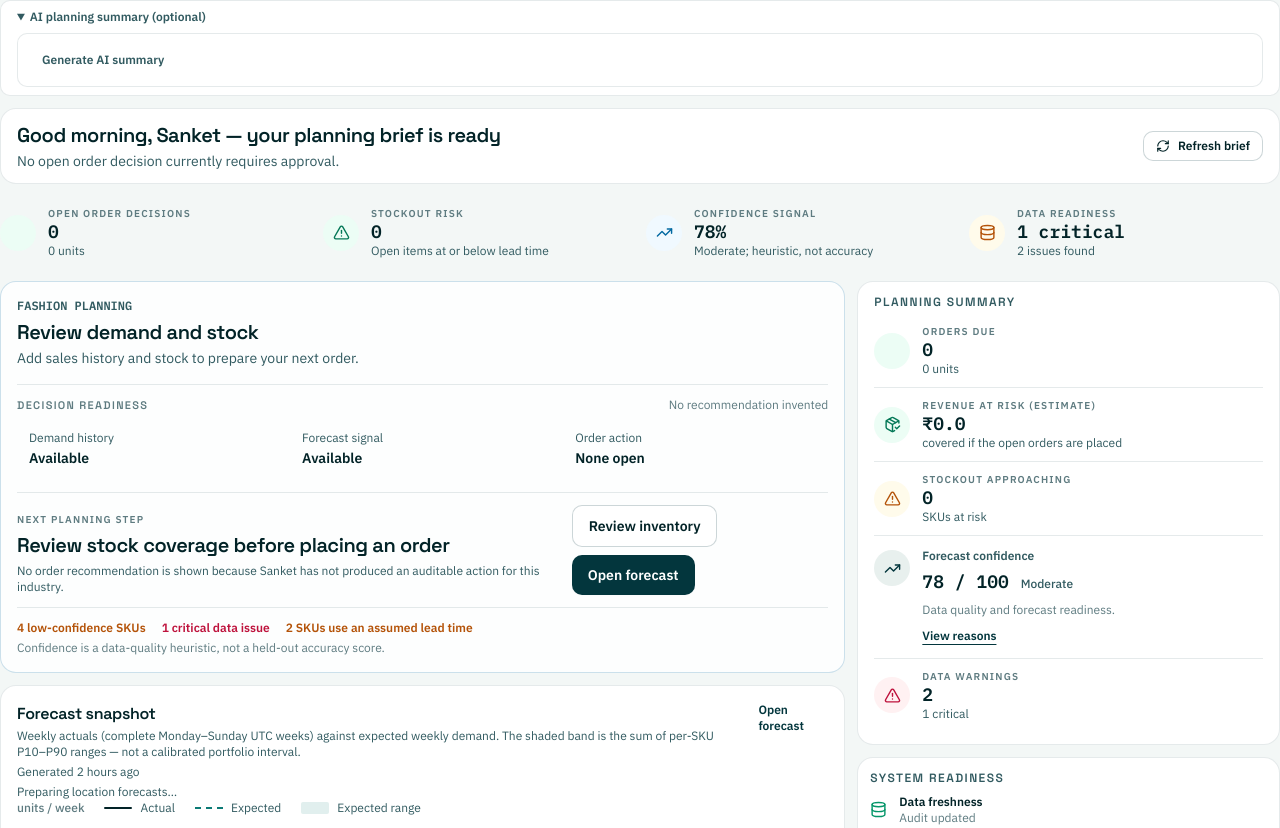
Test: PlanningBriefDashboard › keeps the saved forecast visible and reports when a later read fails
The image size is (1280, 828).
Expected: the text "Generated 2 hours ago" is shown, [17,764,140,778]
What coordinates should you click on to do the following:
click the button "Refresh brief"
I would click on:
 (1203, 146)
Its box is [1143,131,1263,161].
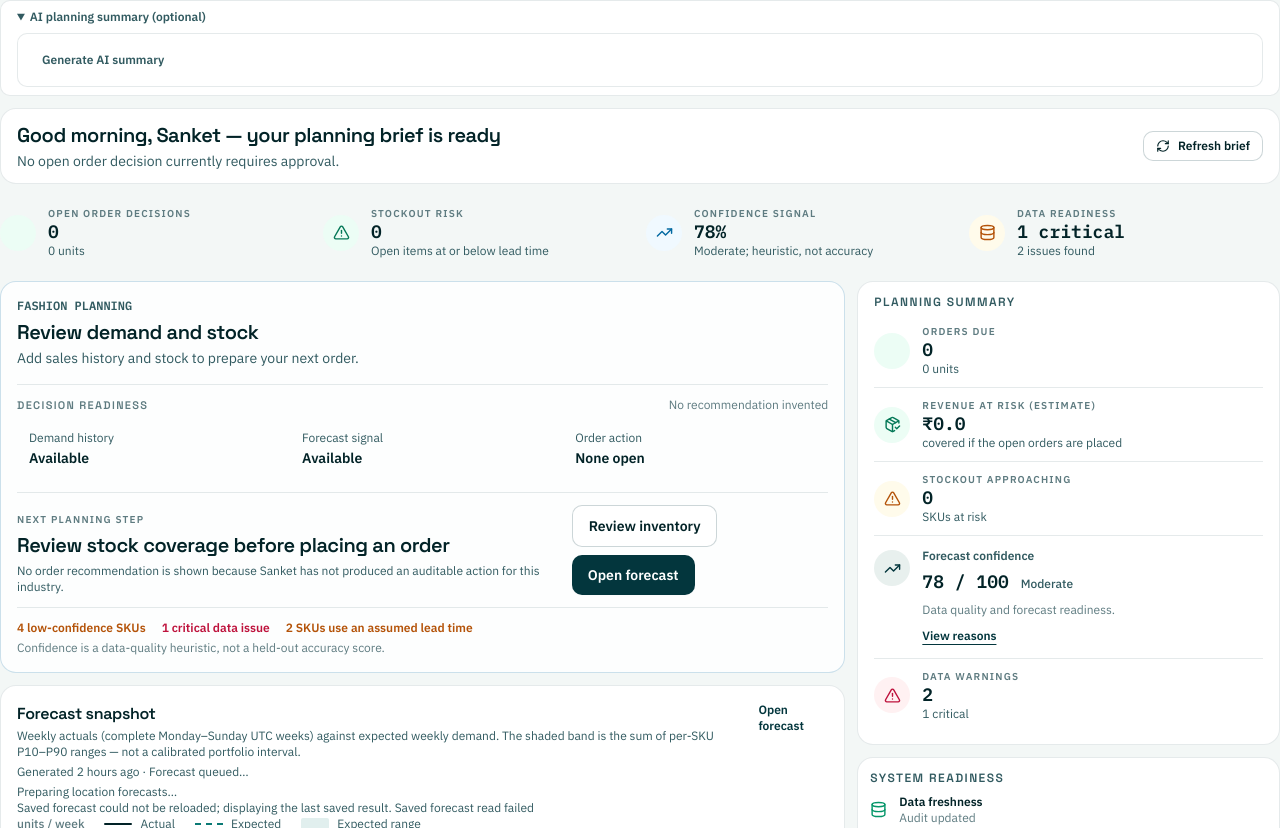
Expected: the text "Generated 2 hours ago" is shown, [17,764,140,778]
Expected: the text "Saved forecast read failed" is shown, [395,800,534,814]
